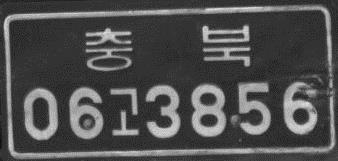0: (21, 84, 60, 143)
3: (142, 82, 182, 140)
5: (236, 79, 272, 137)
6: (280, 80, 320, 136), (66, 85, 105, 141)
8: (190, 81, 227, 139)
고: (107, 85, 141, 139)
충북_D: (82, 24, 253, 75)
